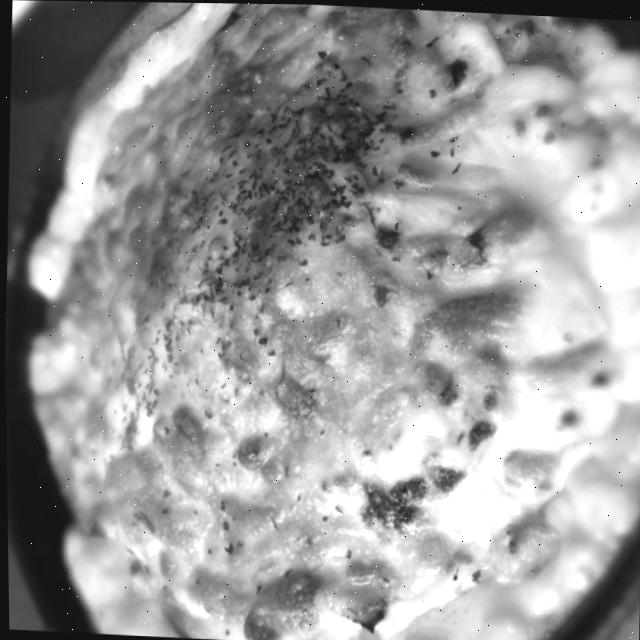米饭主食: (24, 0, 638, 640)
